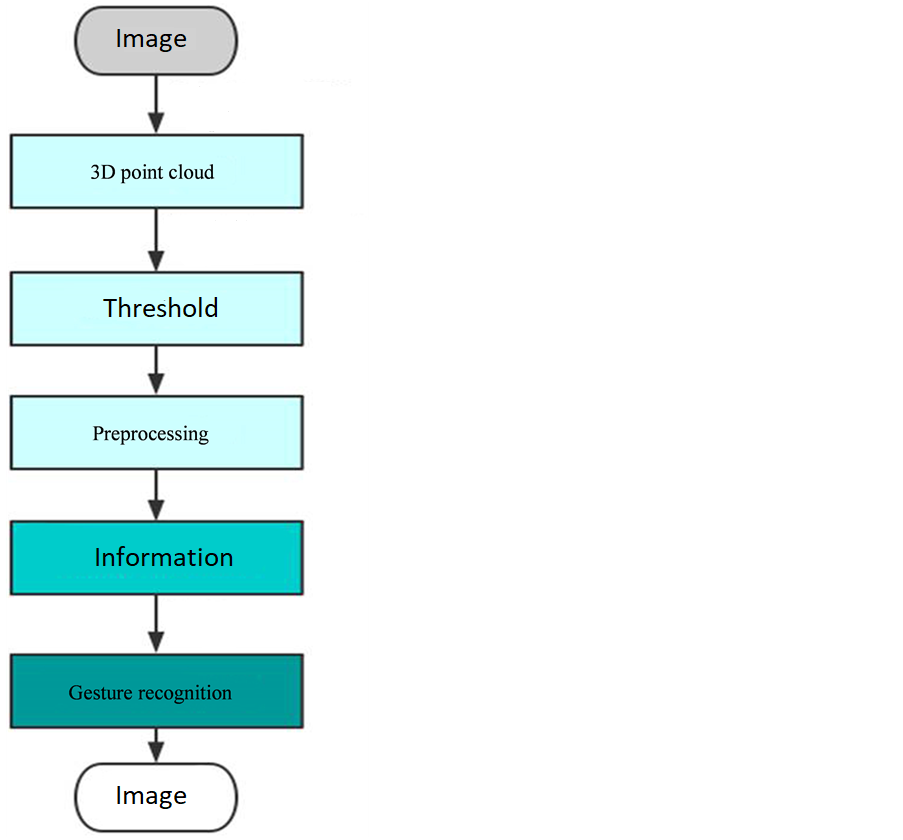arrow: (143, 69, 167, 133), (142, 203, 164, 272), (145, 590, 164, 654), (147, 339, 165, 399), (146, 467, 164, 519), (142, 724, 164, 766)
process: (4, 389, 310, 476), (2, 649, 308, 732), (5, 131, 310, 214), (6, 517, 311, 600), (5, 267, 308, 349)
terminator: (67, 1, 243, 80), (73, 759, 243, 837)
text: (65, 681, 234, 709), (92, 541, 238, 568), (100, 294, 220, 323), (88, 421, 210, 449), (87, 162, 219, 183), (110, 782, 187, 812), (113, 26, 188, 54)
